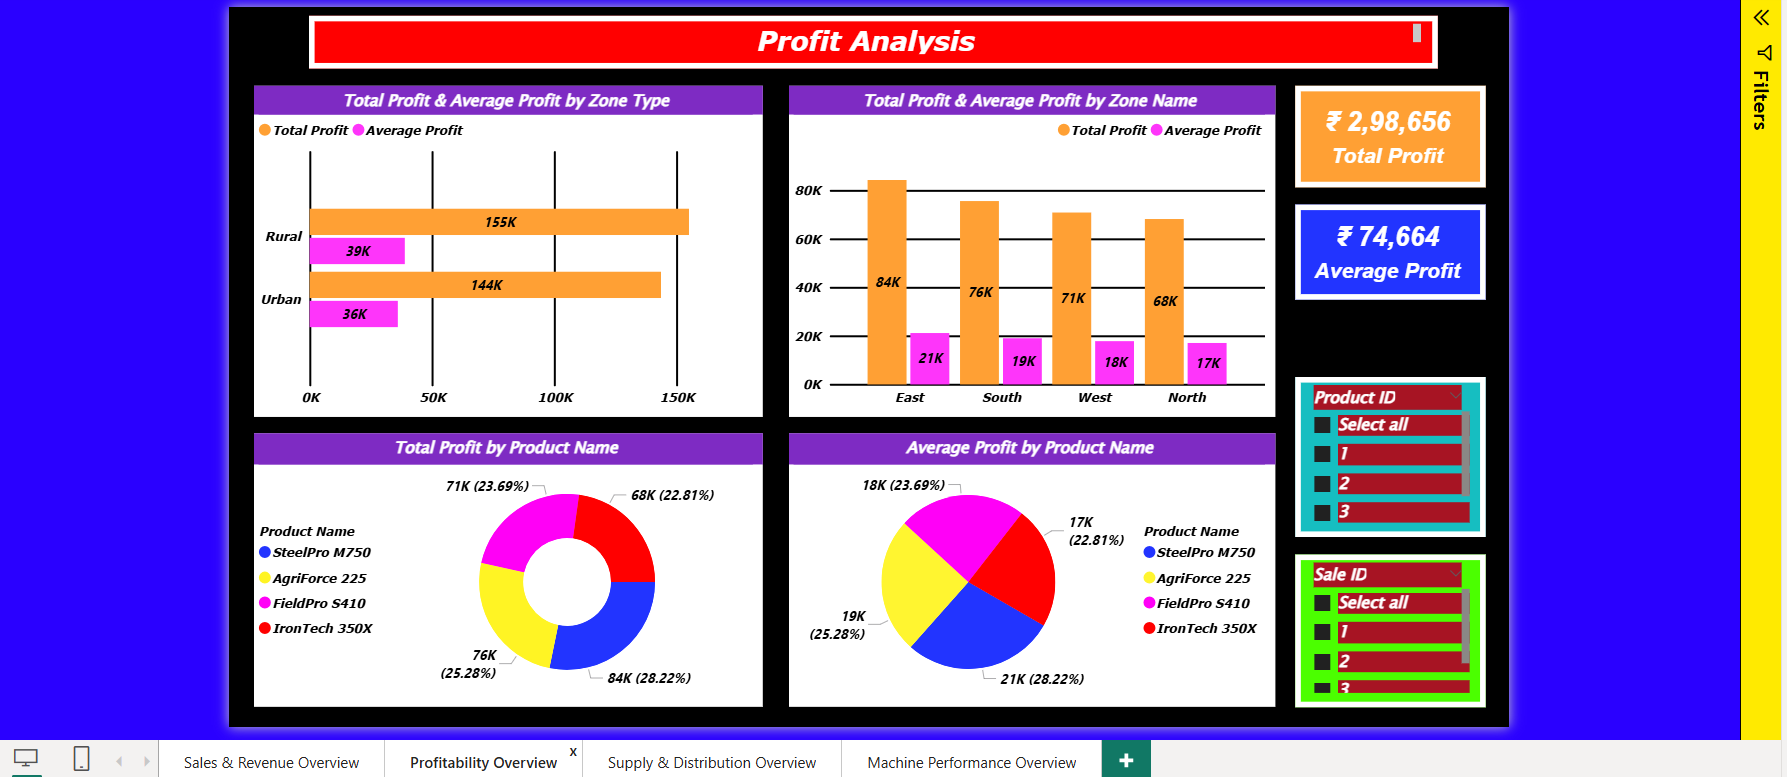

This screenshot's page, from the dashboard's own definition file:
{"tool":"powerbi","page":{"name":"Profitability Overview","canvas":[1280,720],"ordinal":1},"visuals":[{"type":"pieChart","title":"Average Profit by Product Name","fields":{"Category":["Inventory_Details.Product Name"],"Y":["Sum(Profit Calculation Table.Average Profit)"]},"box":[559.8,425.9,486.2,273.9],"z":0},{"type":"clusteredColumnChart","title":"Total Profit & Average Profit by Zone Name","fields":{"Category":["Zone_Overview.Zone Name"],"Y":["Sum(Profit Calculation Table.Total Profit)","Sum(Profit Calculation Table.Average Profit)"]},"box":[560,78.8,486.2,331.2],"z":1000},{"type":"card","fields":{"Values":["Sum(Profit Calculation Table.Average Profit)"]},"box":[1066.2,197.5,190,95],"z":2000},{"type":"card","fields":{"Values":["Sum(Profit Calculation Table.Total Profit)"]},"box":[1066.2,78.8,190,101.2],"z":3000},{"type":"textbox","box":[80,8.8,1128.8,52.5],"z":6000},{"type":"slicer","fields":{"Values":["Inventory_Details.Product ID"]},"box":[1066.2,370,190,160],"z":7000},{"type":"slicer","fields":{"Values":["Sales_Records.Sale ID"]},"box":[1066.2,547.5,190,152.5],"z":8000},{"type":"donutChart","title":"Total Profit by Product Name","fields":{"Category":["Inventory_Details.Product Name"],"Y":["Sum(Profit Calculation Table.Total Profit)"]},"box":[25,426.2,508.8,273.8],"z":9000},{"type":"clusteredBarChart","title":"Total Profit & Average Profit by Zone Type","fields":{"Category":["Zone_Overview.Zone Type"],"Y":["Sum(Profit Calculation Table.Total Profit)","Sum(Profit Calculation Table.Average Profit)"]},"box":[25,78.8,508.8,331.2],"z":10000}]}

Visuals, with their boxes on the page's 1280x720 design canvas (x1, y1, x2, y2). These are canvas units, not pixel positions in the 1787x777 screenshot, which may show the page scaled, cropped or inside an application window:
"Average Profit by Product Name" pieChart: {"left": 560, "top": 426, "right": 1046, "bottom": 700}
"Total Profit & Average Profit by Zone Name" clusteredColumnChart: {"left": 560, "top": 79, "right": 1046, "bottom": 410}
card - Sum(Profit Calculation Table.Average Profit): {"left": 1066, "top": 198, "right": 1256, "bottom": 292}
card - Sum(Profit Calculation Table.Total Profit): {"left": 1066, "top": 79, "right": 1256, "bottom": 180}
textbox: {"left": 80, "top": 9, "right": 1209, "bottom": 61}
slicer - Inventory_Details.Product ID: {"left": 1066, "top": 370, "right": 1256, "bottom": 530}
slicer - Sales_Records.Sale ID: {"left": 1066, "top": 548, "right": 1256, "bottom": 700}
"Total Profit by Product Name" donutChart: {"left": 25, "top": 426, "right": 534, "bottom": 700}
"Total Profit & Average Profit by Zone Type" clusteredBarChart: {"left": 25, "top": 79, "right": 534, "bottom": 410}
